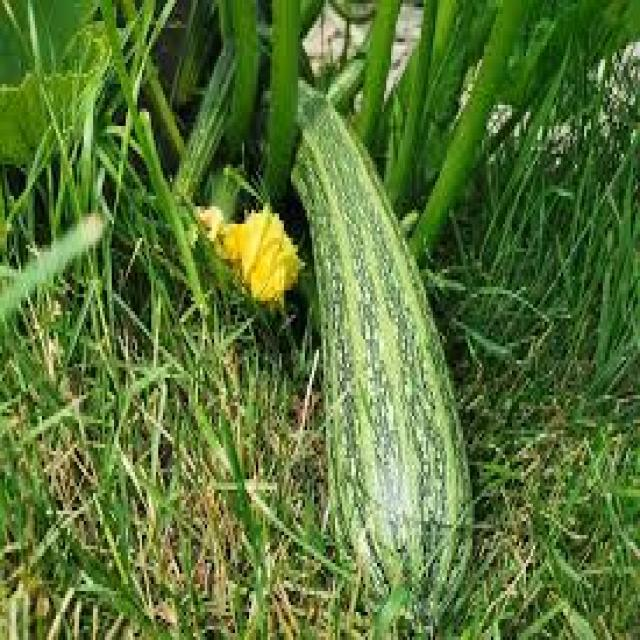Zucchini: (314, 110, 474, 614)
